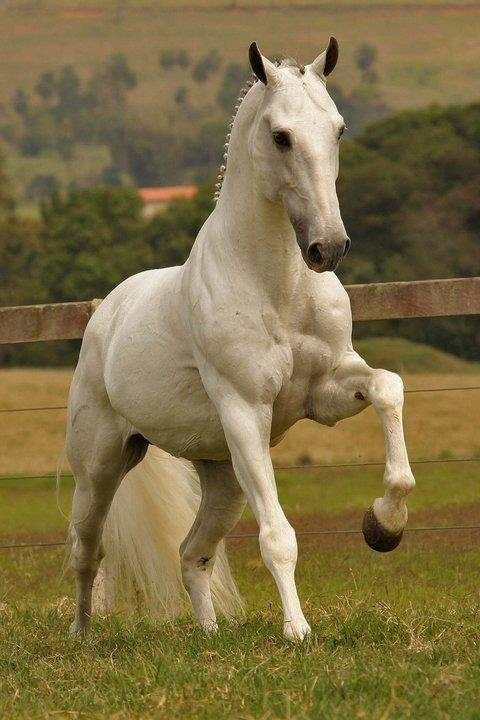horse: (58, 35, 416, 646)
